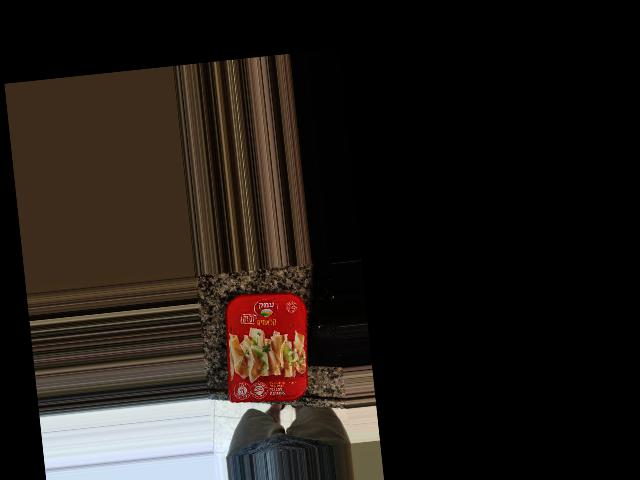cheese: (216, 291, 315, 409)
